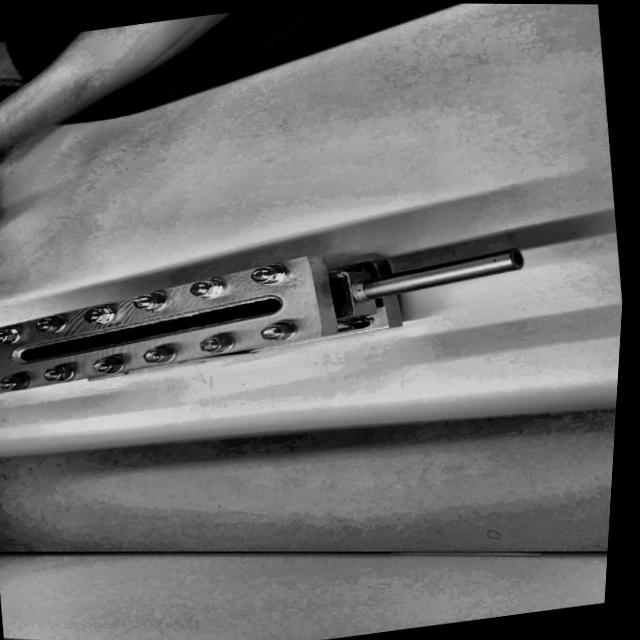ShuiWeiQi_12: (0, 211, 547, 418)
